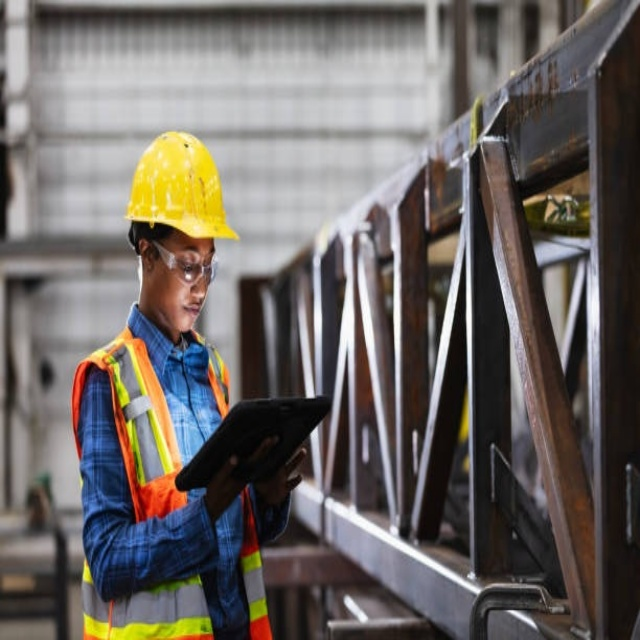Gafas: (150, 241, 220, 286)
Sin_mascara: (173, 298, 205, 331)
